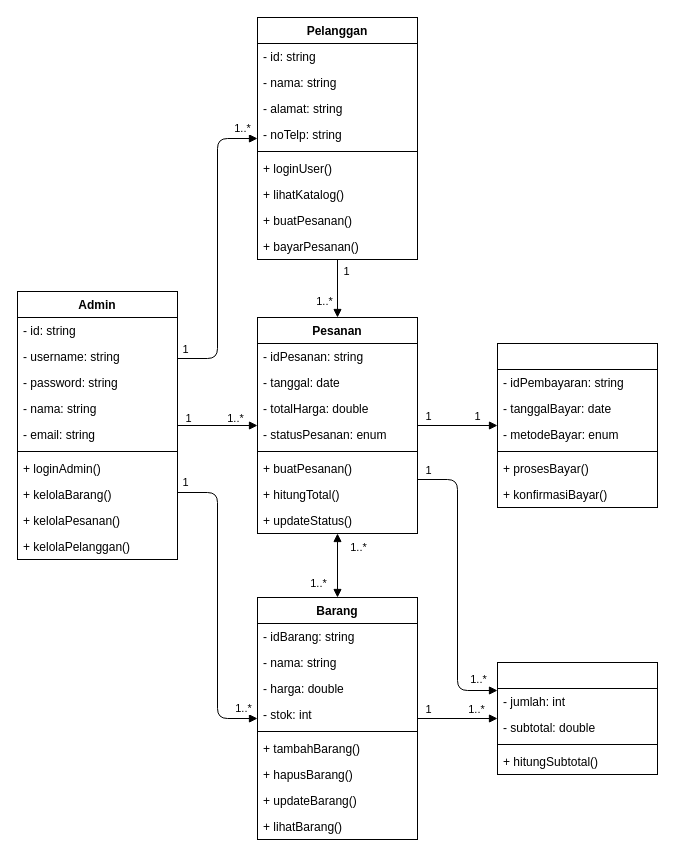
This 675x860 diagram has some shape labels left out. The shapes that lost their labels are listed below. From the top down, each one's centre as x and y in pixels, then its label:
At pixel 577 425: "Pembayaran".
At pixel 577 718: "DetailPesanan".
